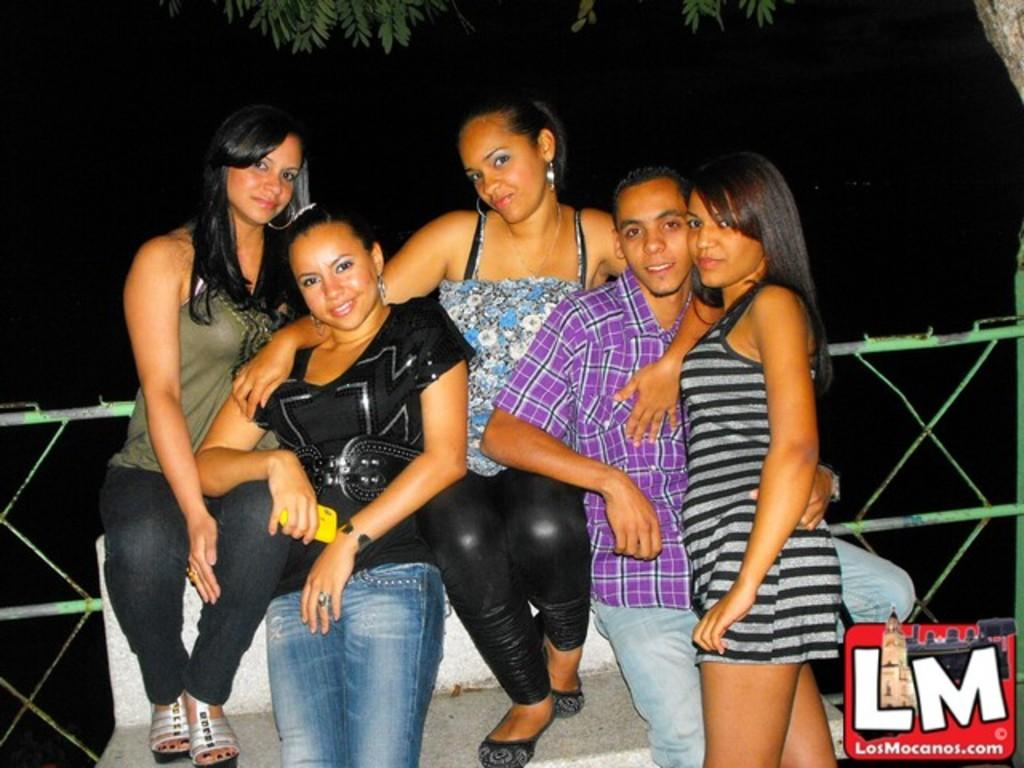Sem Máscara: (286, 222, 373, 321), (457, 121, 542, 222), (616, 177, 686, 288), (689, 187, 758, 281), (227, 137, 298, 220)
